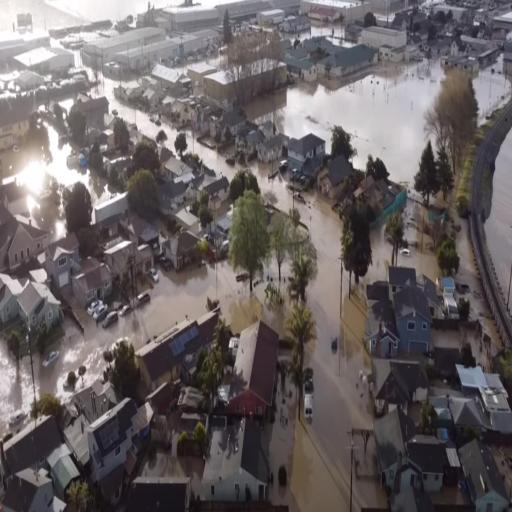flood: (268, 189, 389, 510), (32, 259, 284, 398), (247, 57, 447, 186), (0, 112, 107, 237), (73, 49, 160, 137), (161, 116, 241, 180), (486, 128, 512, 293), (0, 332, 32, 437), (474, 56, 512, 124), (246, 157, 292, 209)
house: (134, 309, 218, 388), (373, 407, 446, 493), (366, 265, 432, 359), (204, 423, 272, 505), (227, 319, 281, 421), (85, 397, 152, 479), (458, 434, 511, 512), (0, 411, 62, 477), (206, 57, 288, 105), (0, 208, 46, 271), (18, 280, 60, 336), (236, 118, 287, 162), (72, 256, 113, 309), (317, 44, 374, 81), (353, 172, 392, 226), (316, 151, 353, 205), (45, 231, 80, 288), (362, 23, 410, 61), (290, 130, 326, 174), (151, 61, 192, 98), (168, 228, 202, 272), (77, 96, 111, 131), (0, 273, 21, 326), (93, 191, 130, 221), (199, 177, 229, 207), (138, 244, 154, 274), (227, 110, 244, 135)
